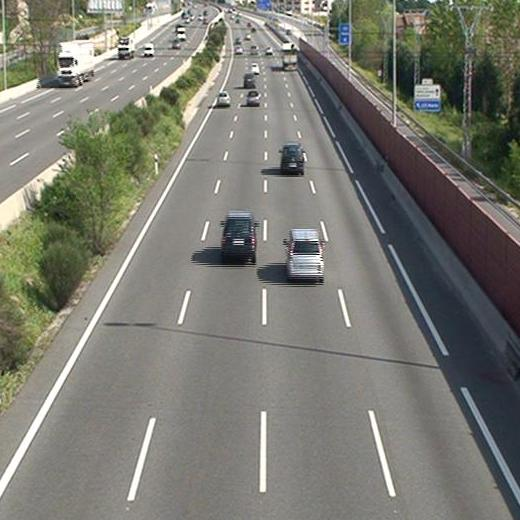car: (286, 229, 324, 279), (221, 211, 257, 258), (279, 143, 305, 170), (246, 89, 260, 105), (217, 90, 231, 105), (244, 73, 256, 87), (249, 63, 260, 73)
truck: (281, 41, 297, 69)
